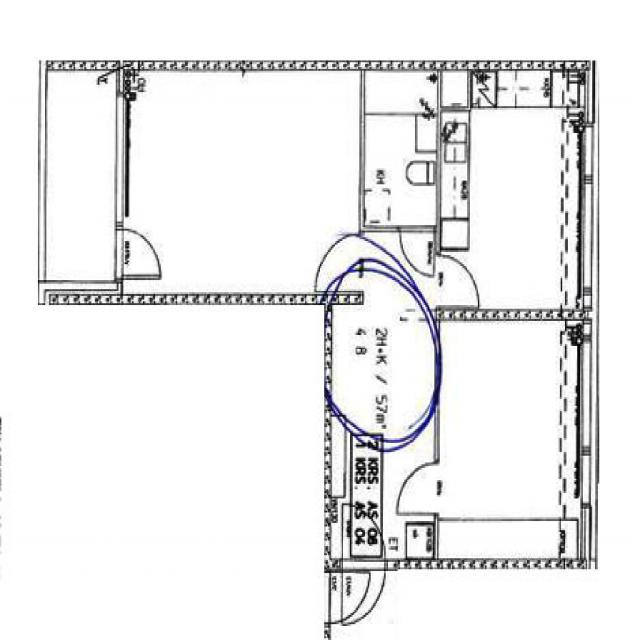door: (316, 234, 364, 291), (343, 560, 384, 624), (343, 506, 384, 569), (436, 255, 480, 306), (397, 463, 440, 513), (116, 230, 160, 278), (400, 225, 434, 275)
